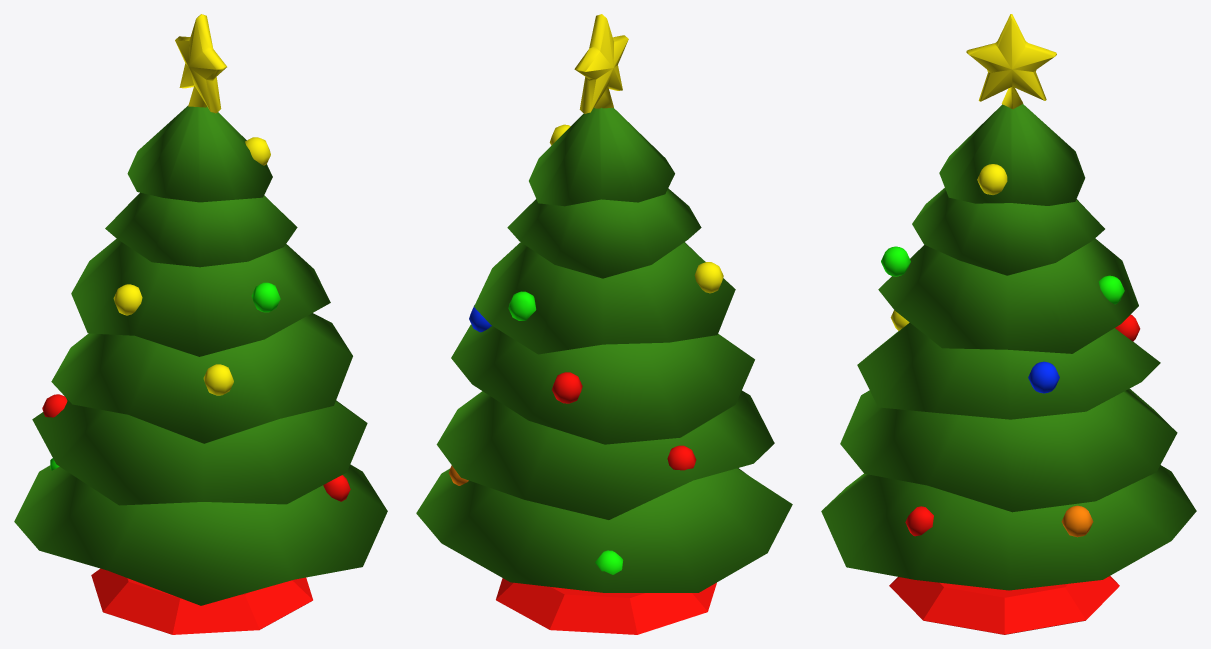
The model's file is Christmas_tree.fbx.
3 views of the same model, side by side, from view 1: azimuth 30°, elevation 25°; view 2: azimuth 150°, elevation 25°; view 3: azimuth 270°, elevation 25° (orthographic).
Visible parts, largest first — view 1: christmas tree; view 2: christmas tree; view 3: christmas tree.
Part boxes in pixels (<box>): christmas tree: <box>14,14,387,634</box>; christmas tree: <box>416,14,792,634</box>; christmas tree: <box>821,14,1196,634</box>.
Bounding box in the file's own units: 453 × 764 × 453.
